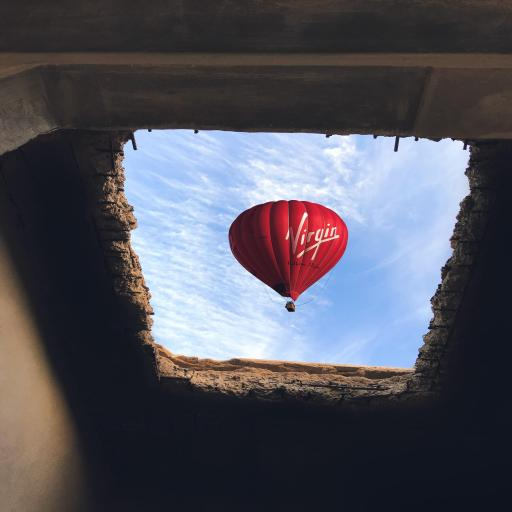hot air ballon: (227, 201, 348, 312)
